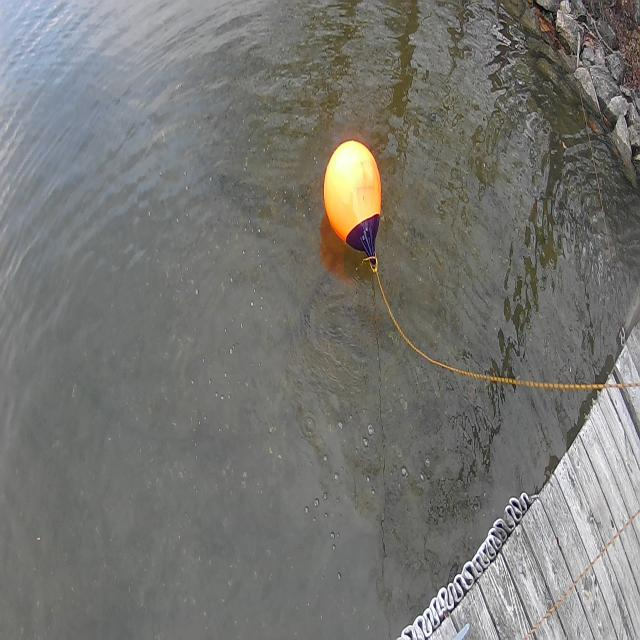Buoy: (317, 128, 389, 274)
